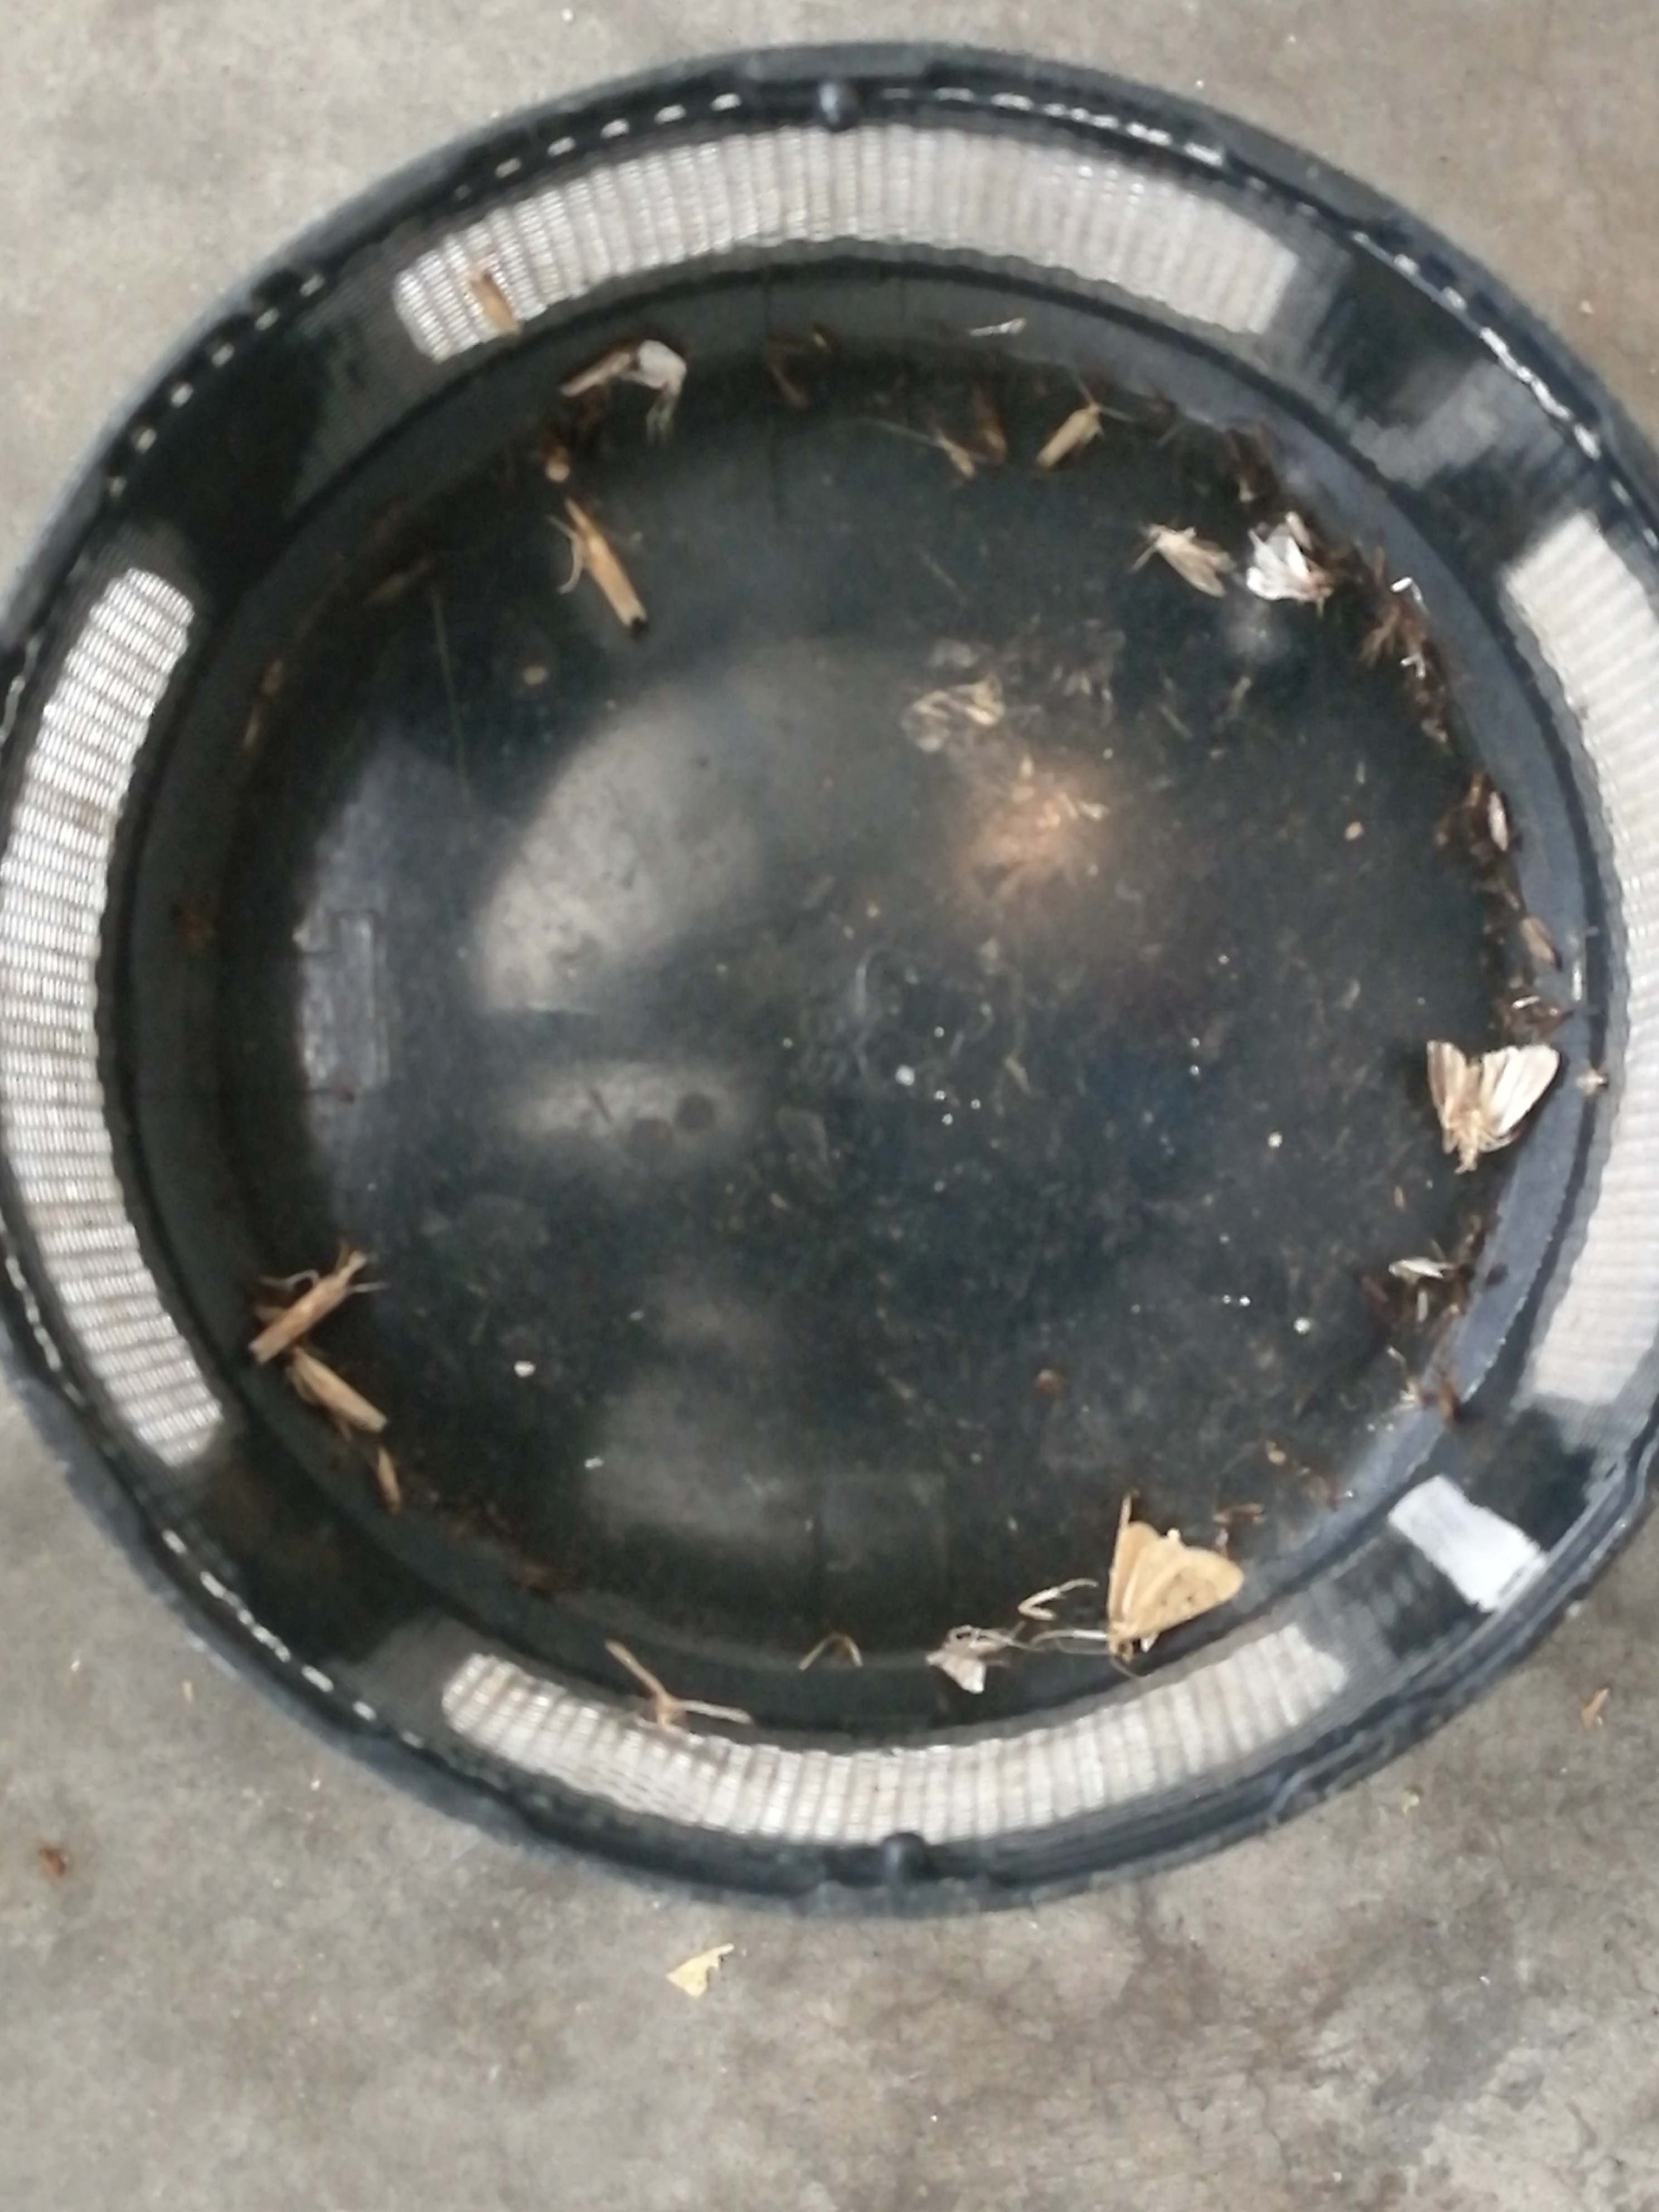mosquito: (566, 498, 647, 629), (251, 1266, 354, 1362), (293, 1346, 385, 1430), (1042, 401, 1100, 463), (469, 270, 519, 336), (563, 347, 629, 394), (939, 428, 976, 477), (1385, 1258, 1455, 1280), (380, 1449, 401, 1514), (1490, 794, 1509, 853)
moth: (1108, 1521, 1243, 1662), (1429, 1042, 1558, 1170), (1248, 528, 1333, 603), (1148, 524, 1236, 596), (927, 1625, 986, 1695), (640, 341, 685, 399)
